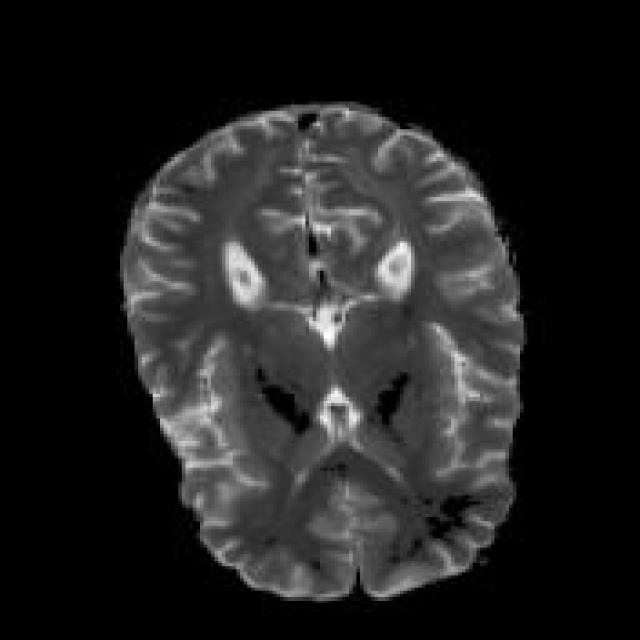CONTROL: (117, 99, 528, 603)
